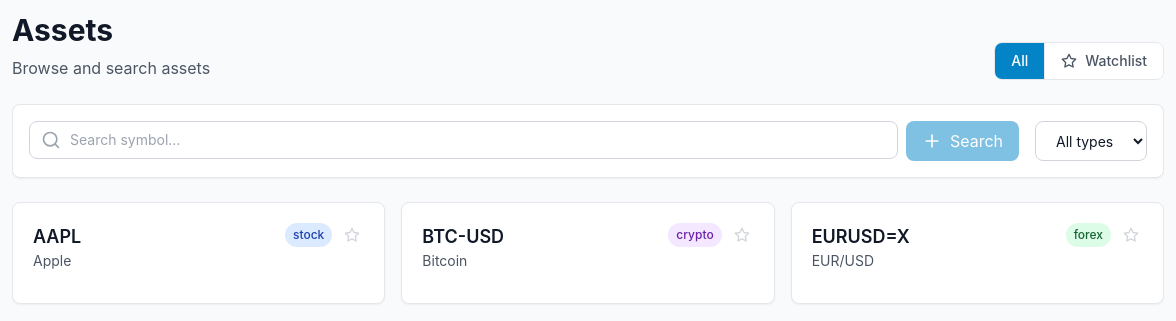
Test case: AssetsPage › renders assets and filters by type
The width and height of the screenshot is (1176, 321).
Expected: the heading "AAPL" is shown, [33, 226, 81, 247]
Expected: the heading "BTC-USD" is shown, [422, 226, 504, 247]
Select "Crypto" in the dropdown at (1091, 141), box [1035, 121, 1147, 161]
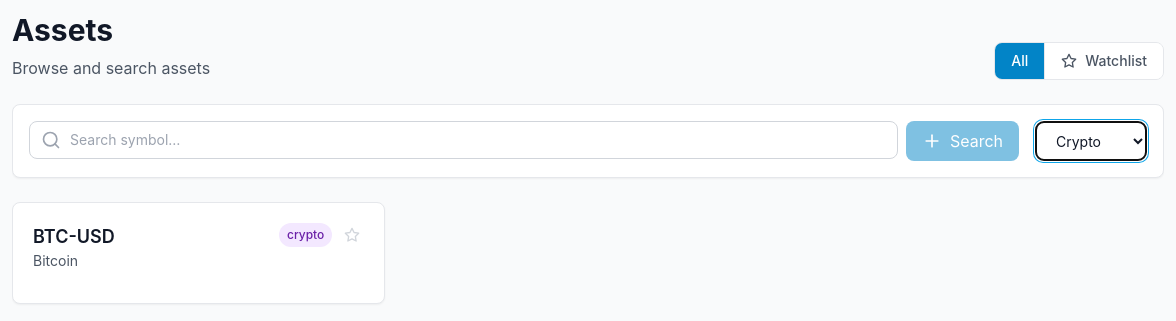
Expected: the heading "BTC-USD" is shown, [33, 226, 115, 247]
Expected: the heading "AAPL" is gone
Expected: the heading "EURUSD=X" is gone
